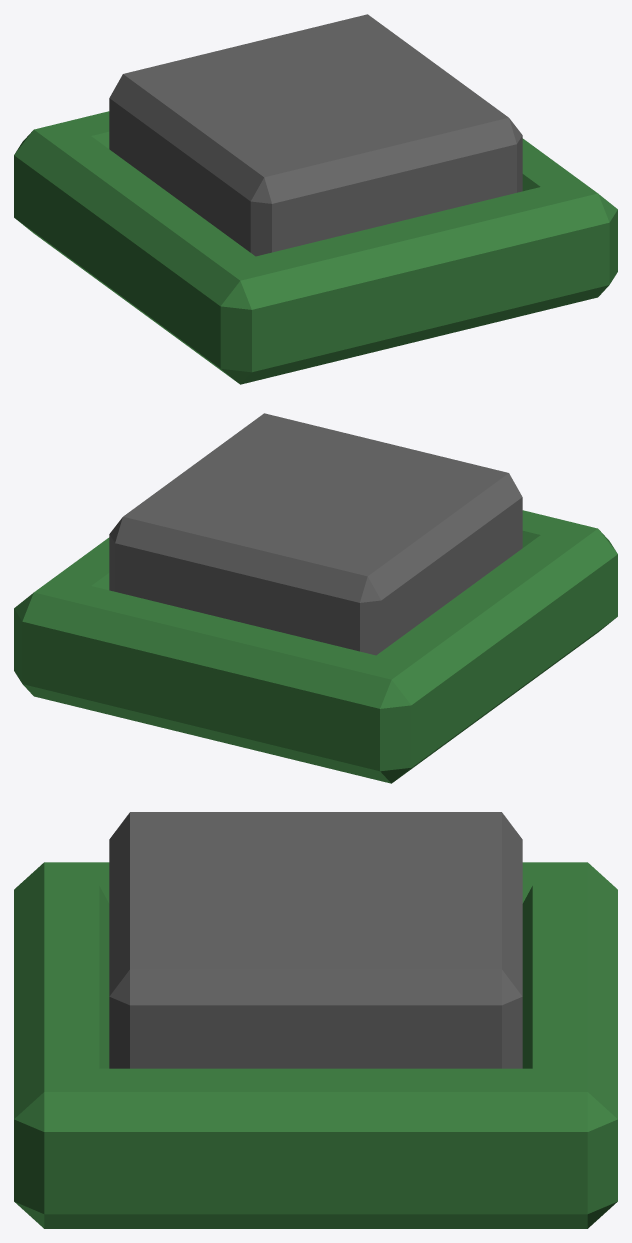
The model's file is m_dec_dung_button_disabled.fbx.
3 renders of one model, top to bottom at view 1: azimuth 30°, elevation 25°; view 2: azimuth 150°, elevation 25°; view 3: azimuth 270°, elevation 25°, orthographic. The views are drawn at different scales.
Visible parts, largest first — view 1: m_dec_dung_button_disabled; view 2: m_dec_dung_button_disabled; view 3: m_dec_dung_button_disabled.
Boxes of the visible parts, left/top/right/bottom form: m_dec_dung_button_disabled: left=14, top=14, right=617, bottom=384; m_dec_dung_button_disabled: left=14, top=413, right=617, bottom=783; m_dec_dung_button_disabled: left=14, top=812, right=617, bottom=1228.
Size of the model in its own units: 2 by 0.8158 by 2.
